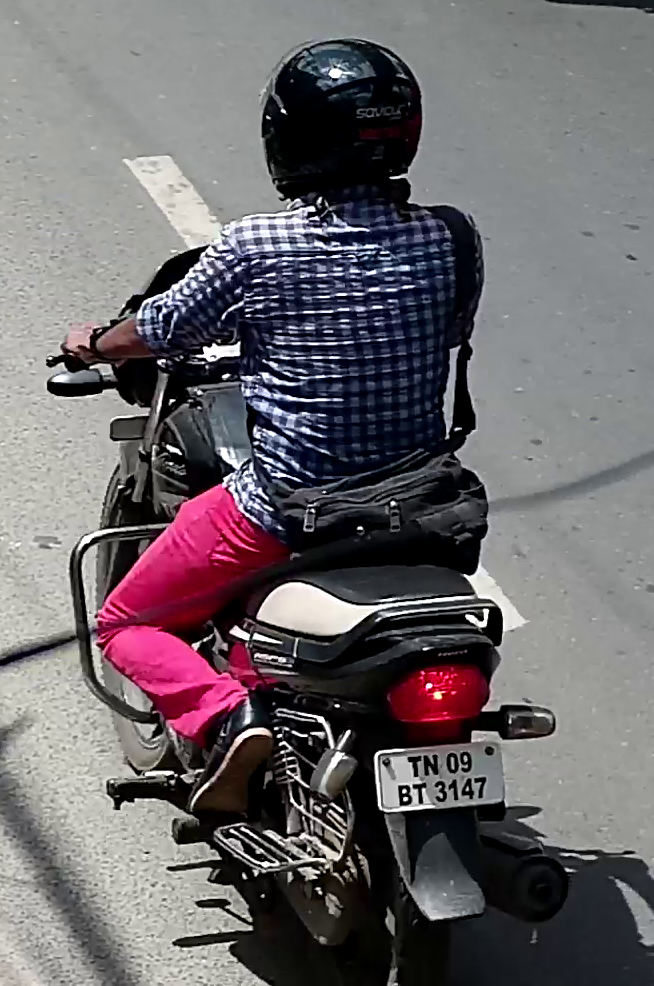0: (446, 752, 459, 772)
1: (448, 778, 459, 800)
3: (434, 780, 447, 801)
4: (462, 776, 474, 799)
7: (475, 775, 487, 798)
9: (460, 751, 472, 772)
B: (398, 784, 413, 805)
N: (424, 753, 439, 777)
P16: (373, 742, 513, 813)
T: (408, 755, 422, 777), (414, 782, 427, 804)
